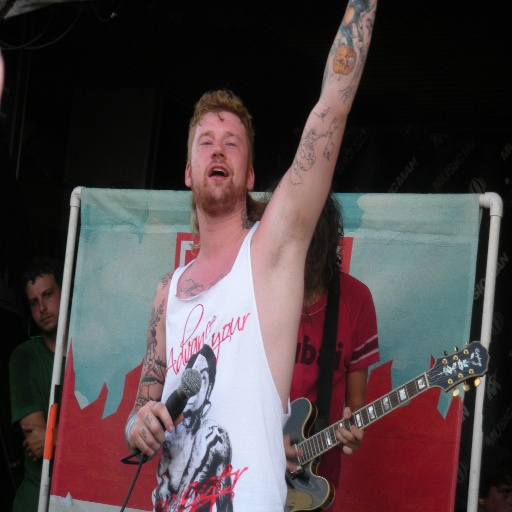hand: (123, 395, 164, 453), (333, 404, 364, 456), (20, 424, 46, 465), (280, 433, 302, 475)
